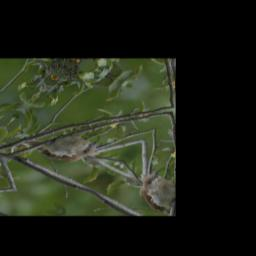Cuckoo: (20, 118, 102, 172)
